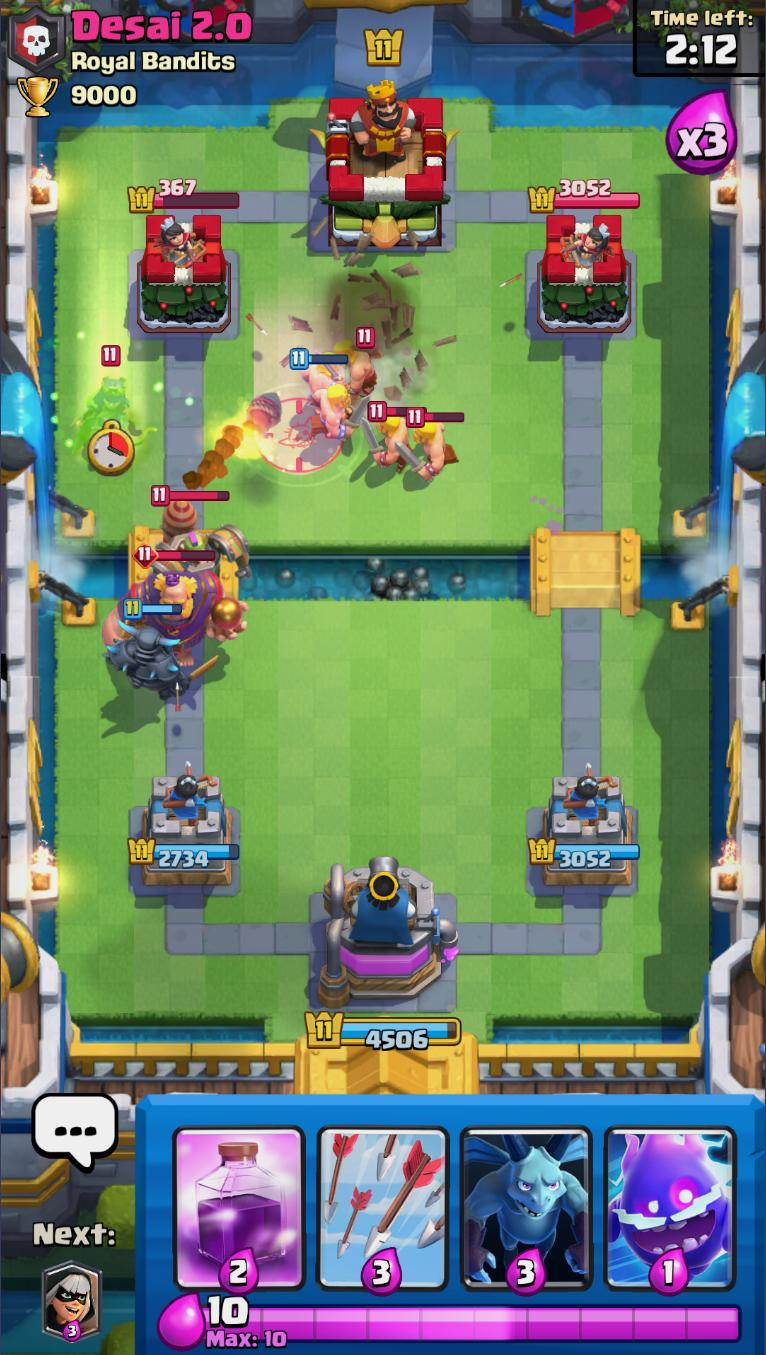ArcherQueen: (76, 344, 157, 451)
ArrowDeck: (311, 1098, 454, 1300)
BanditNext: (42, 1265, 104, 1342)
Barbarian: (402, 409, 464, 478), (360, 402, 419, 469), (330, 327, 384, 397)
ElectroSpiritDeck: (601, 1097, 740, 1295)
Elixir: (202, 1297, 745, 1350)
EnemyTower: (524, 212, 634, 333), (125, 211, 232, 333)
EvoRoyaleGiant: (102, 543, 248, 668)
GoblinMachine: (138, 484, 253, 603)
KingTower: (308, 82, 462, 250)
MinionsDeck: (454, 1096, 600, 1297)
MyBarbarian: (306, 384, 370, 442), (289, 346, 355, 399)
MyKingHP: (304, 1007, 462, 1051)
MyKingTower: (317, 854, 459, 1008)
MyPekka: (104, 598, 219, 702)
MyPrincessTower: (128, 771, 239, 896), (529, 769, 640, 886)
MyPrincessTowerHP: (127, 835, 240, 867), (528, 837, 640, 869)
PrincessTower: (150, 215, 205, 268), (550, 216, 607, 267)
RageDeck: (169, 1094, 313, 1295)
TowerPrincessHP: (529, 178, 641, 212), (129, 178, 241, 211)
